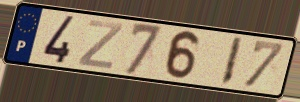4: (41, 15, 75, 66)
6: (163, 29, 202, 82)
7: (243, 38, 286, 90), (126, 21, 165, 77)
I: (218, 35, 245, 88)
Z: (76, 18, 126, 71)
